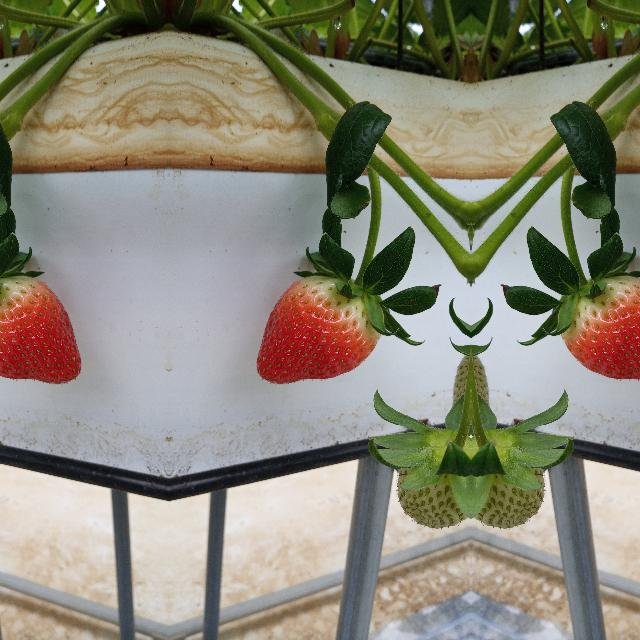Health_100: (254, 276, 384, 384), (557, 275, 640, 384), (0, 275, 82, 384)
Health_25: (470, 428, 540, 536), (402, 428, 471, 536)
